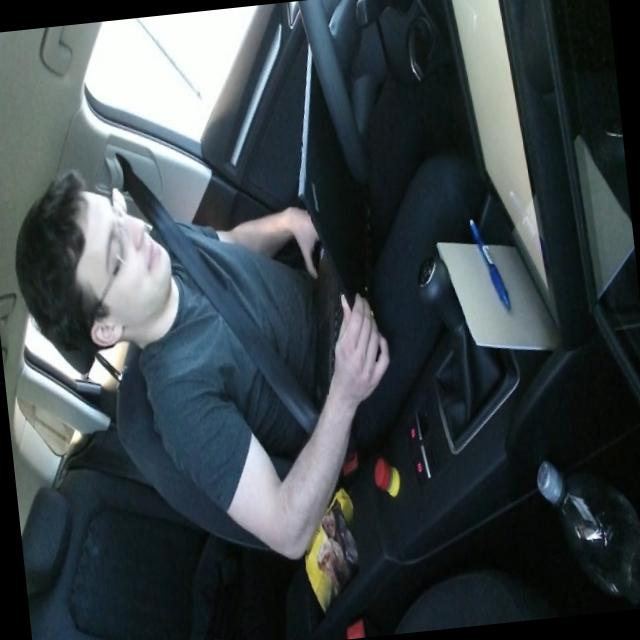pen: (466, 211, 512, 314)
